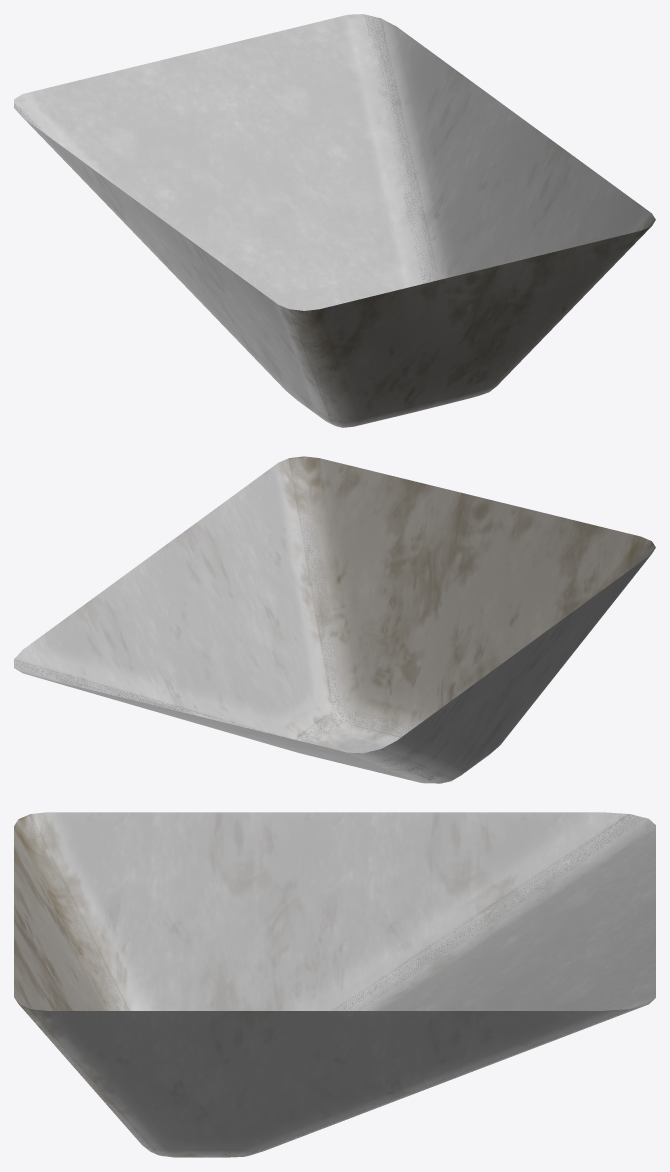
The model's file is _kicker-wall-lp.fbx.
The picture shows the model from 3 angles, top to bottom: view 1: azimuth 30°, elevation 25°; view 2: azimuth 150°, elevation 25°; view 3: azimuth 270°, elevation 25°; orthographic projection. The views are drawn at different scales.
Visible parts, largest first — view 1: kicker-wall-lp.001; view 2: kicker-wall-lp.001; view 3: kicker-wall-lp.001.
Part boxes in pixels (x1=…): kicker-wall-lp.001: x1=14, y1=14, x2=655, y2=427; kicker-wall-lp.001: x1=14, y1=456, x2=655, y2=783; kicker-wall-lp.001: x1=14, y1=812, x2=655, y2=1157.
Size of the model in its own units: 40000 by 20000 by 54641.
